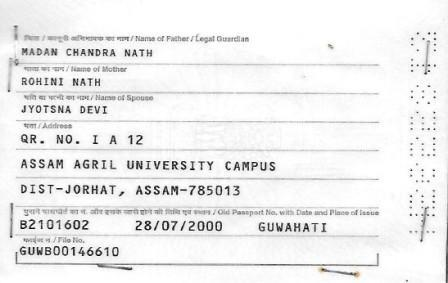File_no: (15, 243, 127, 260)
address: (13, 126, 281, 205)
father_name: (16, 41, 160, 64)
mother_name: (9, 69, 140, 90)
old_passport_details: (12, 216, 333, 234)
spouse_name: (16, 104, 123, 115)
